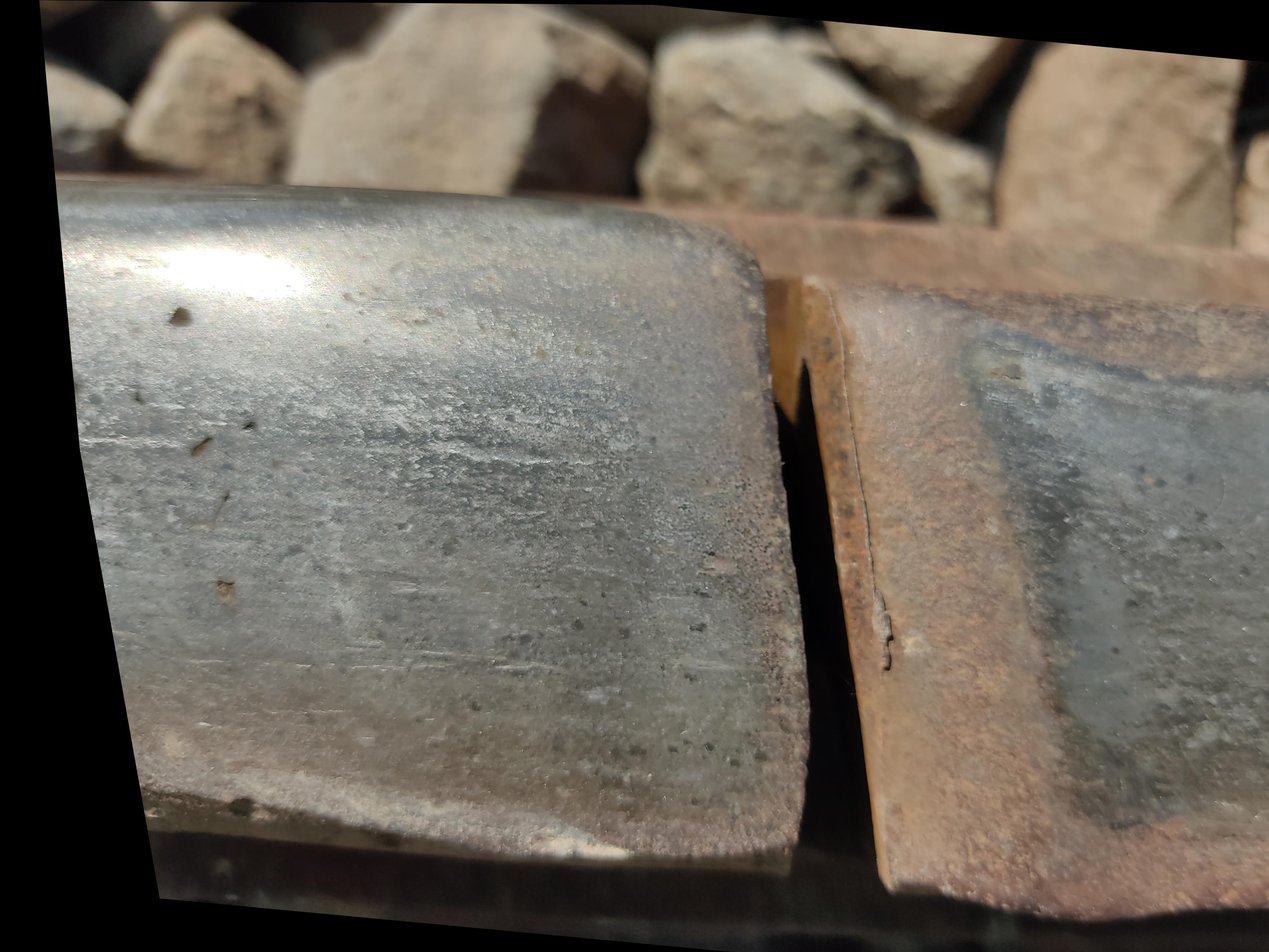person: (349, 27, 1269, 931)
